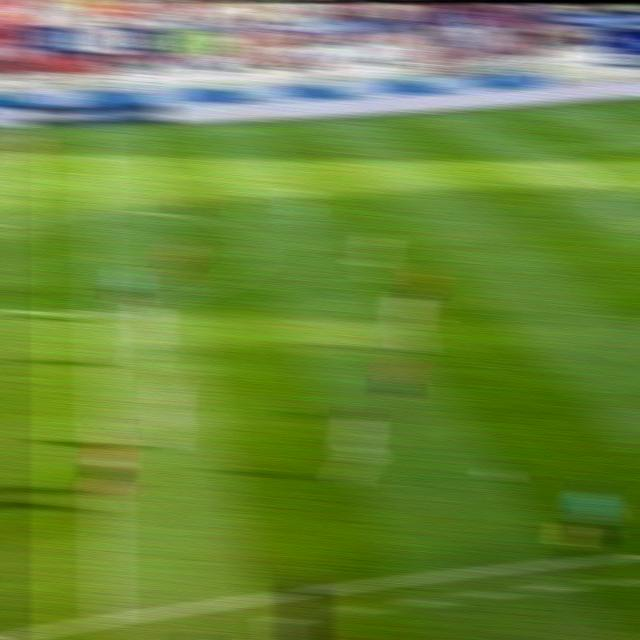bigarea_top_inner: (530, 137, 564, 159)
halfcircle_bottom: (83, 295, 119, 326)
halfcircle_top: (79, 198, 116, 227)
midline_bottom_intersection: (87, 599, 129, 632)
midline_top_intersection: (81, 126, 113, 148)
top_arc_area_intersection: (598, 174, 633, 199)
